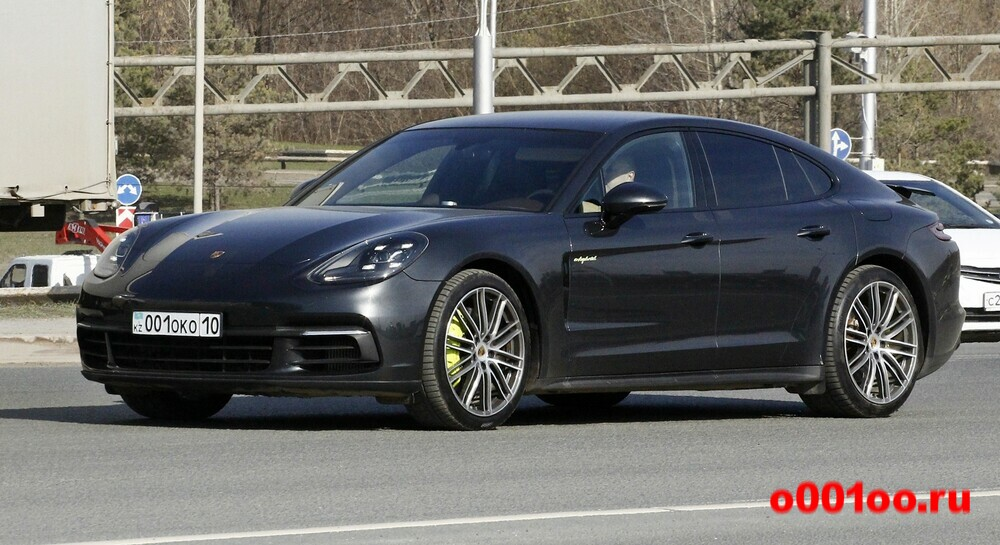license_plate: (129, 310, 223, 339)
